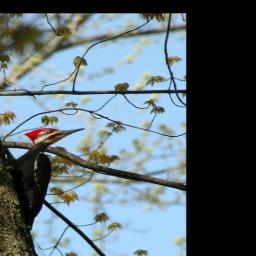Woodpecker: (4, 126, 90, 233)
